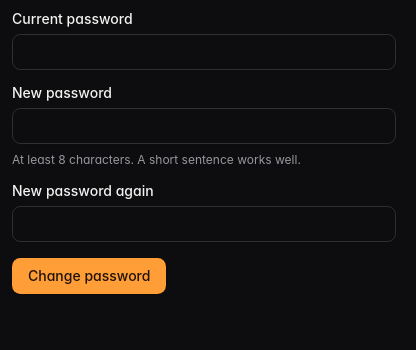
Scenario: the change password form › refuses two new passwords that differ
Type "old password" into the password field labelled "Current password" at point(204, 52), box [12,34,396,70]
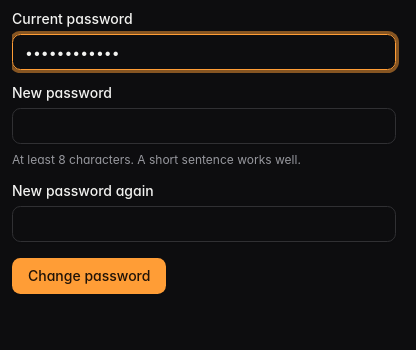
Type "a new sentence" into the password field labelled "New password" at point(204, 126), box [12,108,396,144]
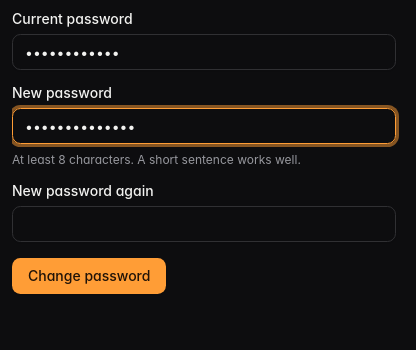
Type "a new sentense" into the password field labelled "New password again" at point(204, 224), box [12,206,396,242]
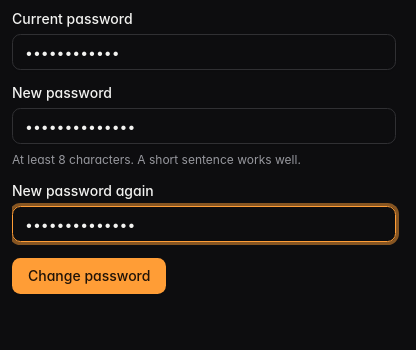
Click the button "Change password" at point(89, 276), box [12,258,166,294]
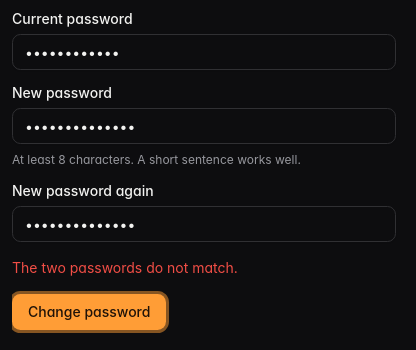
Now the message reads "The two passwords do not match.", box [12,259,238,276]
